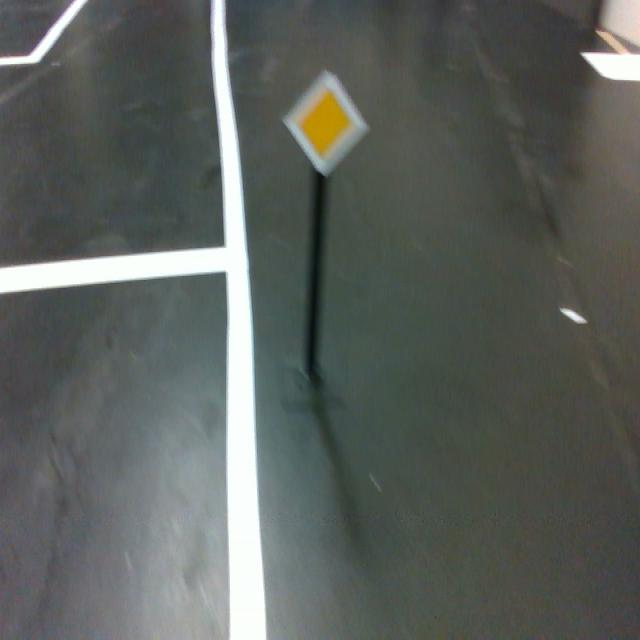priority-sign: (280, 68, 371, 180)
